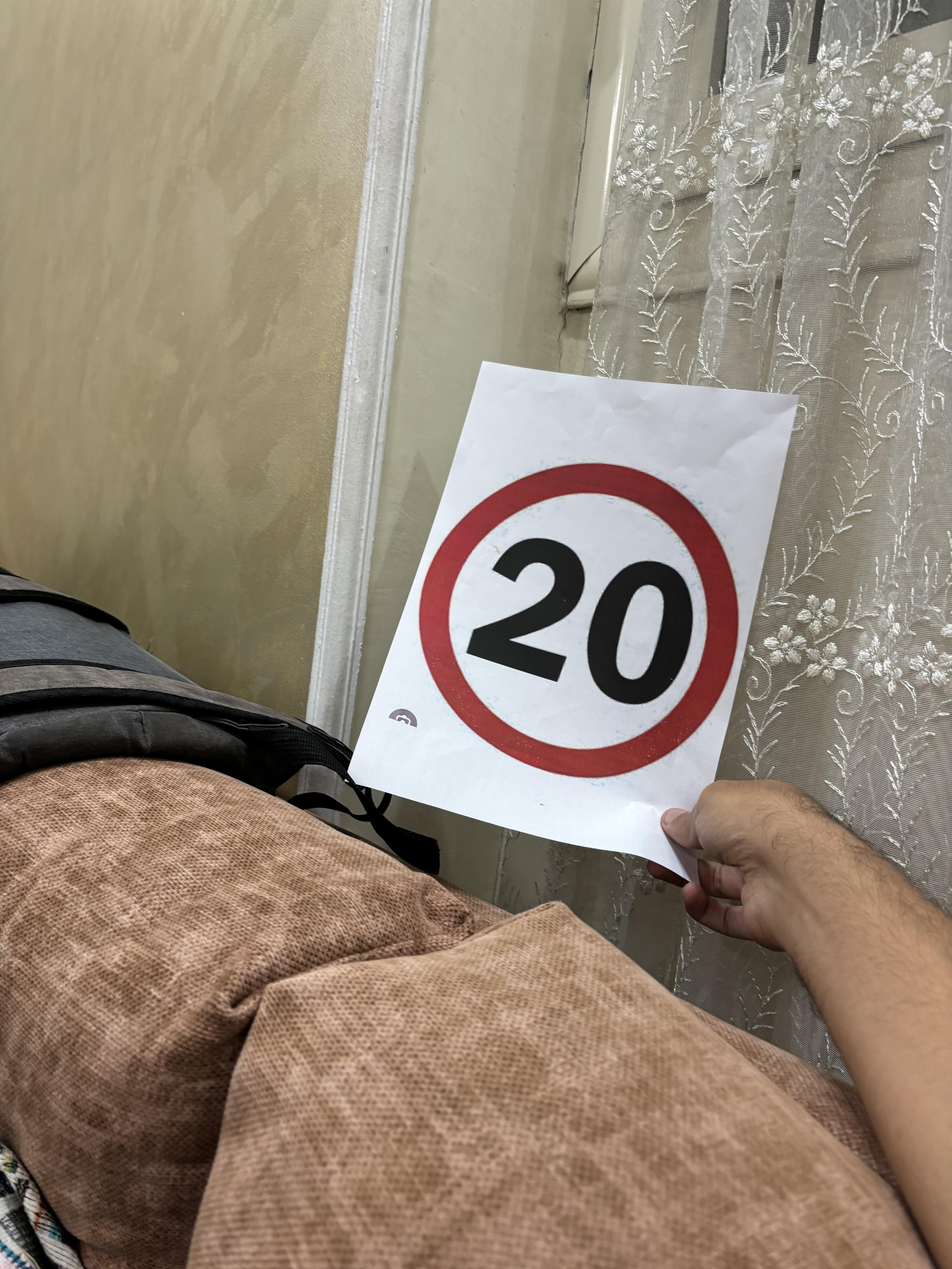20-Speed: (415, 451, 749, 780)
